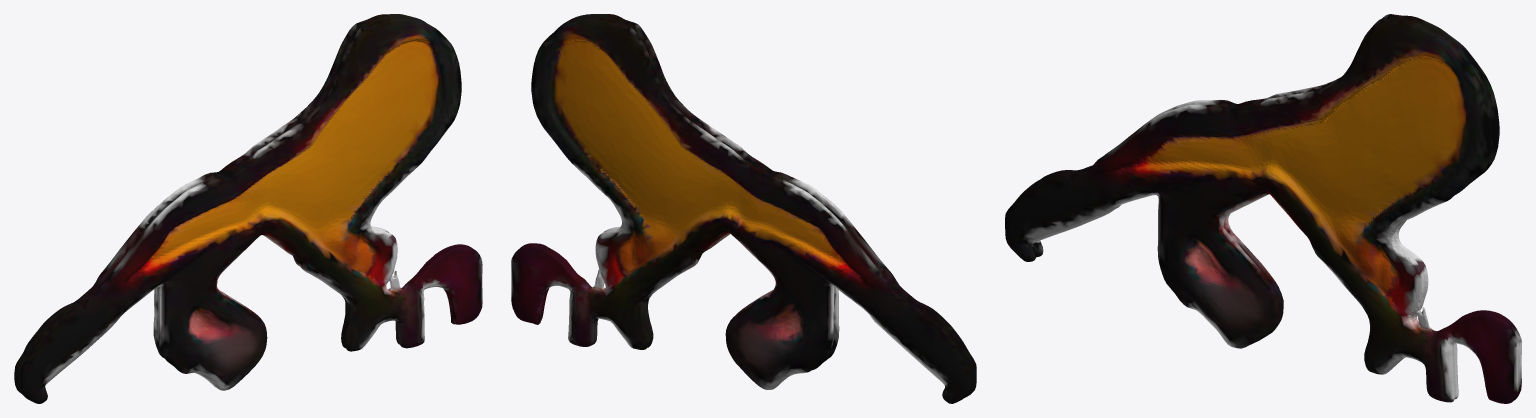
3 views of the same model, side by side, from view 1: azimuth 30°, elevation 25°; view 2: azimuth 150°, elevation 25°; view 3: azimuth 330°, elevation 25° (orthographic). The views are drawn at different scales.
Visible parts, largest first — view 1: geometry_0; view 2: geometry_0; view 3: geometry_0.
Part boxes in pixels (x1=…): geometry_0: x1=14, y1=14, x2=482, y2=403; geometry_0: x1=511, y1=14, x2=976, y2=403; geometry_0: x1=1005, y1=14, x2=1521, y2=403.
Size of the model in its own units: 0.5 by 0.3473 by 0.0289.
